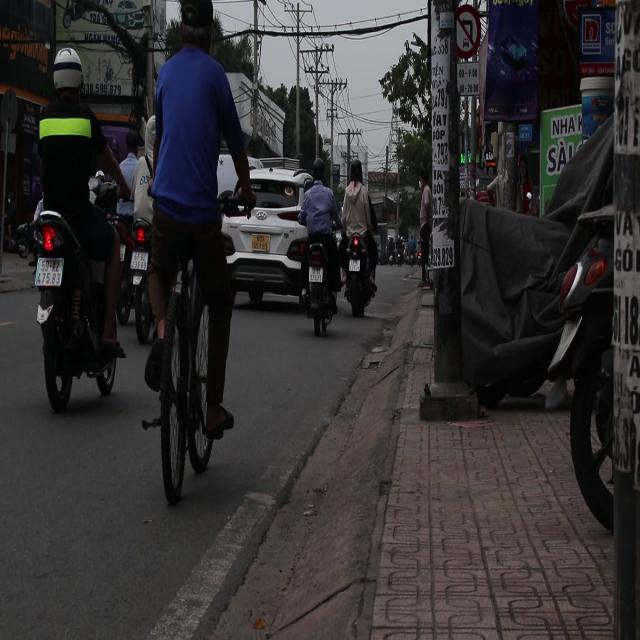car: (224, 167, 316, 310)
motorbike: (24, 204, 115, 420), (297, 235, 342, 338), (346, 235, 379, 337)
